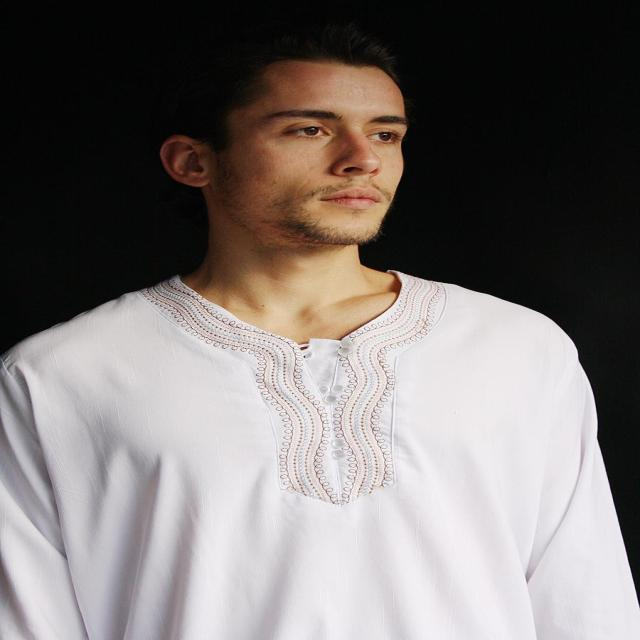front: (270, 106, 422, 223)
